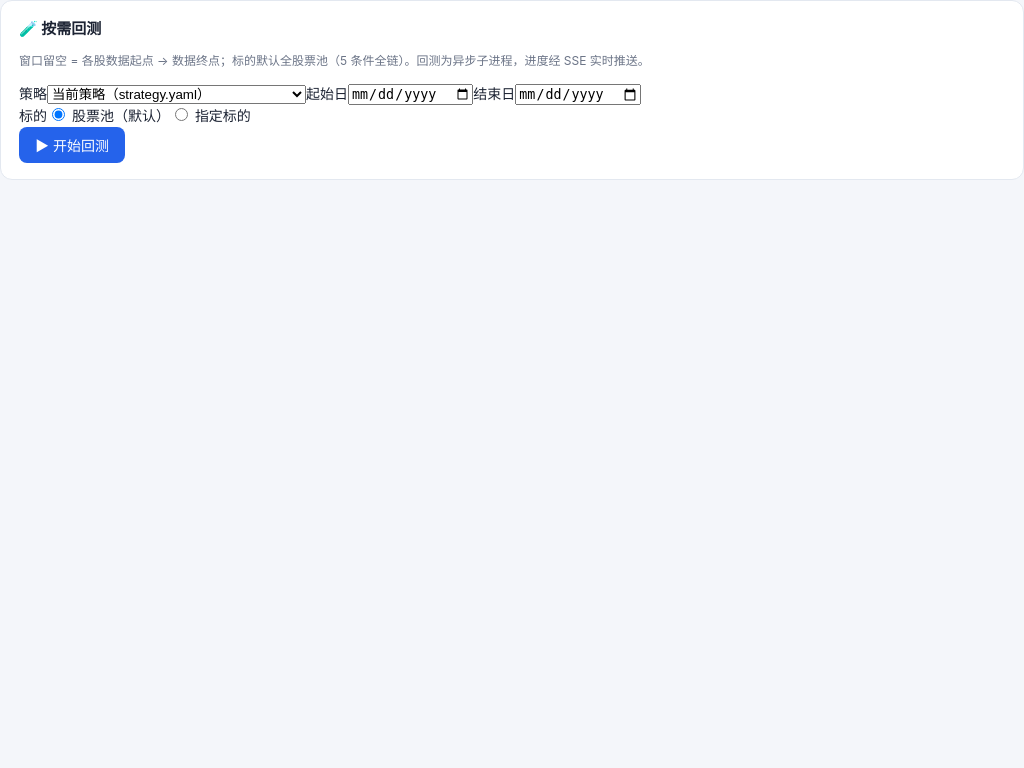
Test: BacktestTab · 结果区（SSE done → /api/bt/results） › done 事件 → 拉 results：per_stock 表 + buys 表 + summary + 净值曲线渲染
Click the button with id "btn-bt-run": (72, 145) left=19, top=127, right=125, bottom=163
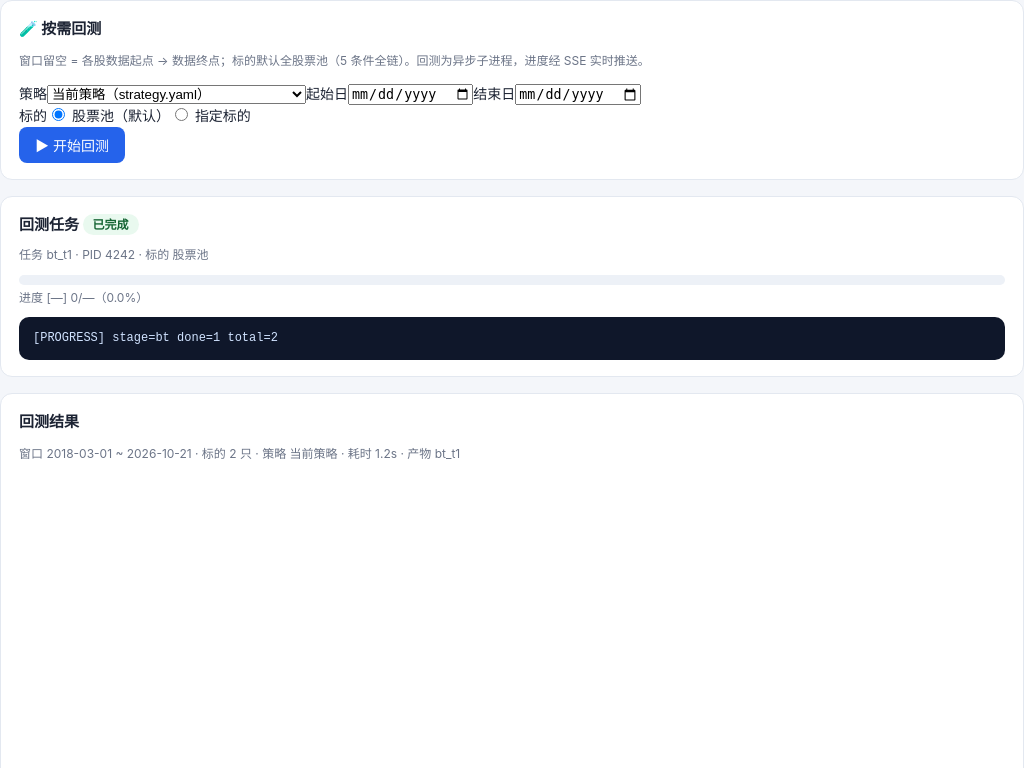
Check: the text "回测结果" is shown, box left=19, top=412, right=79, bottom=431
Check: the text "2018-03-01" is shown, box left=19, top=446, right=460, bottom=461
Check: the text "2 只" is shown, box left=19, top=446, right=460, bottom=461
